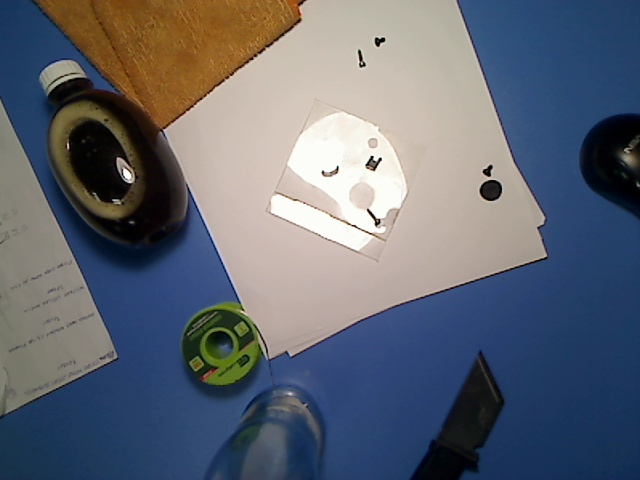plast_bottle: (34, 46, 194, 258)
